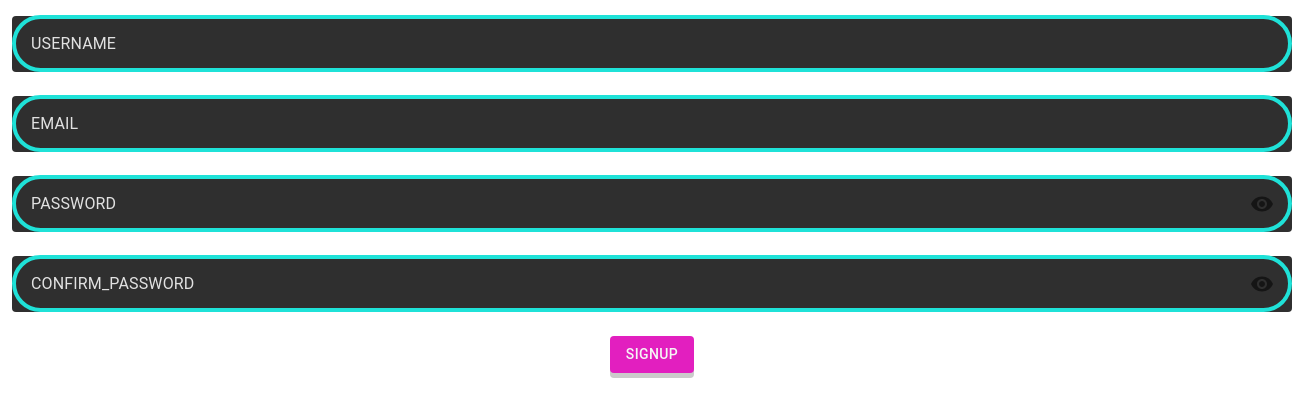
Scenario: auth register unit tests › username already taken is refused
Type "john" into the field labelled "USERNAME" at (652, 44), box [12, 16, 1292, 72]
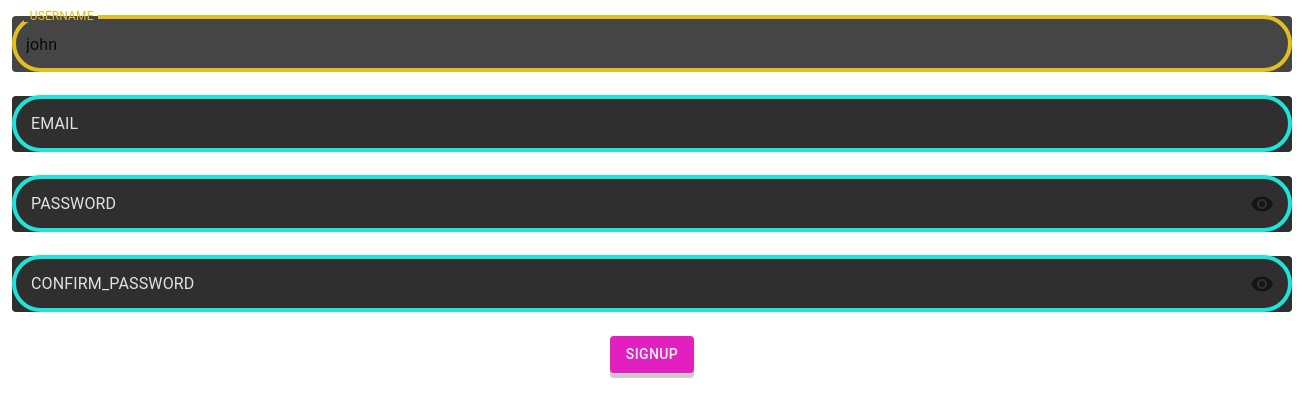
Type "john+new@42.fr" into the field labelled "EMAIL" at (652, 124), box [12, 96, 1292, 152]
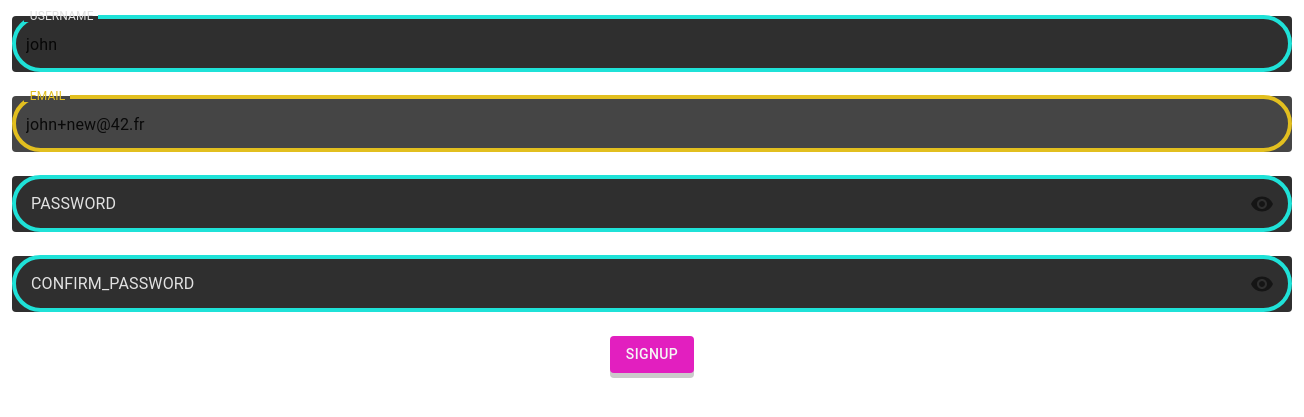
Type "Secret1!" into the password field labelled "PASSWORD" at (623, 204), box [12, 176, 1234, 232]
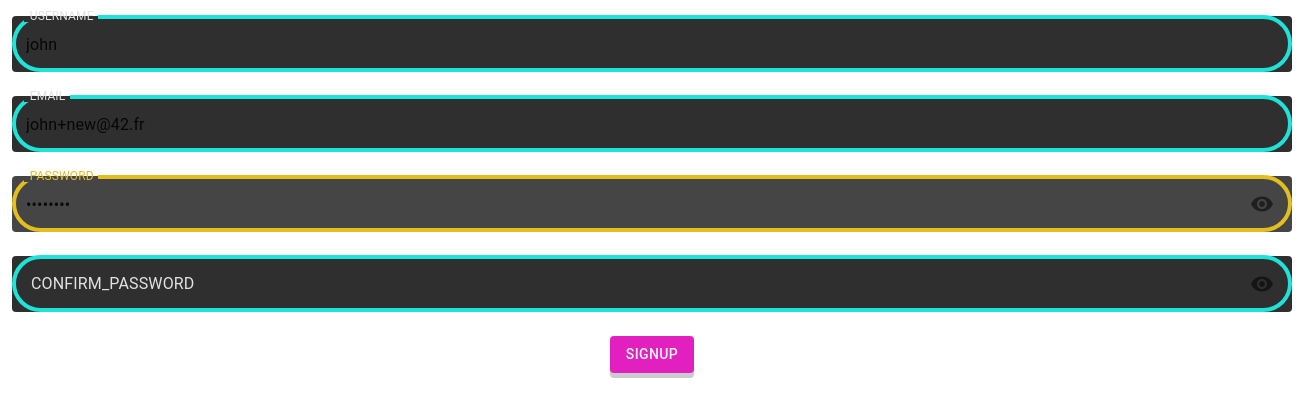
Type "Secret1!" into the password field labelled "CONFIRM_PASSWORD" at (623, 284), box [12, 256, 1234, 312]
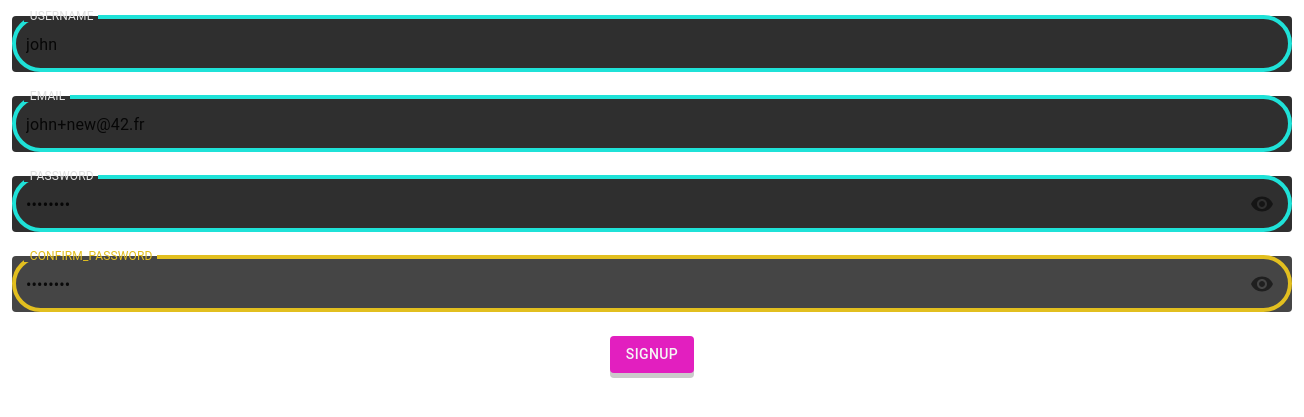
Click the button "SIGNUP" at (652, 354), box [610, 336, 694, 372]
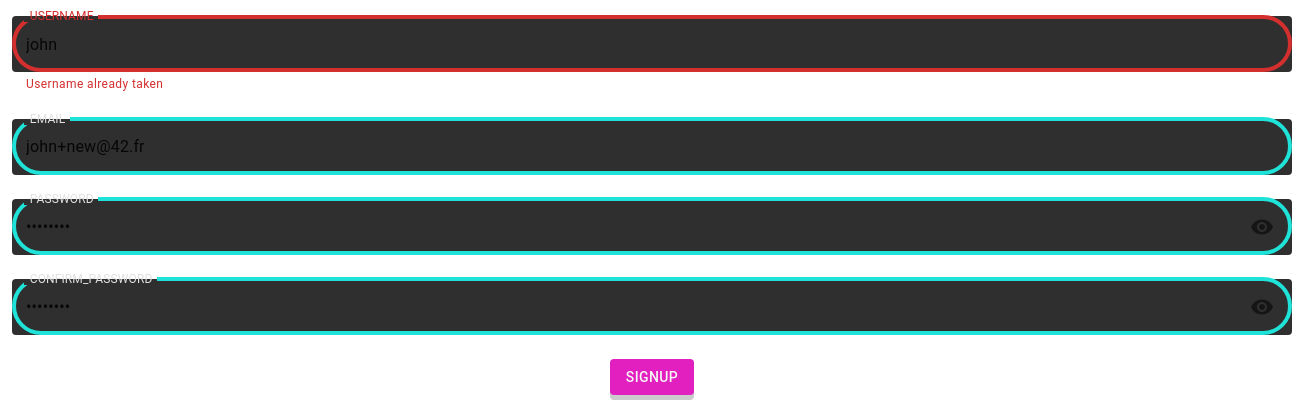
Expected: the button "SIGNUP" is enabled, [610, 359, 694, 395]
Expected: the text "Username already taken" is shown, [26, 77, 163, 91]
